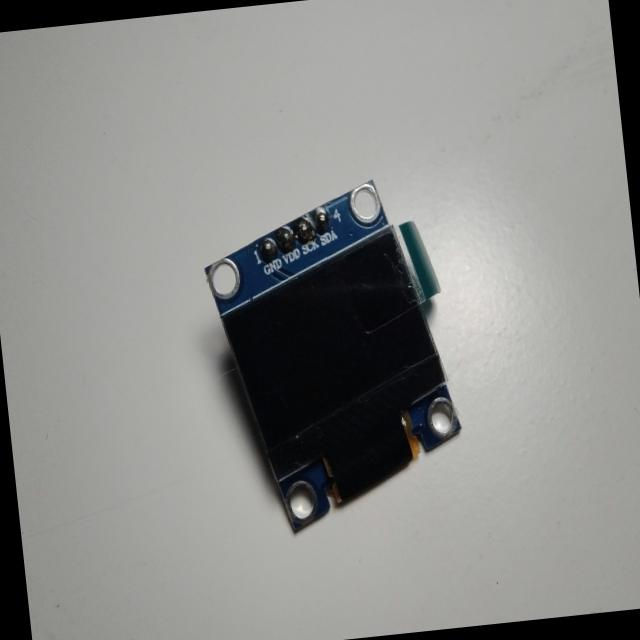oled: (188, 172, 482, 545)
